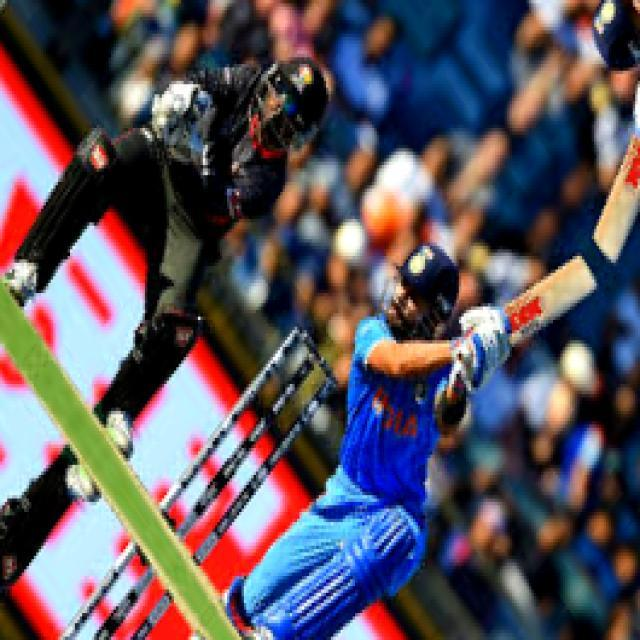bat: (504, 252, 602, 345)
